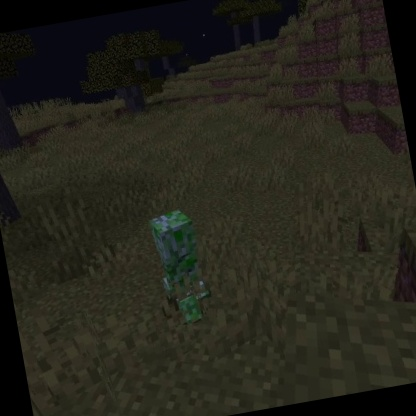creeper: (143, 203, 220, 334)
